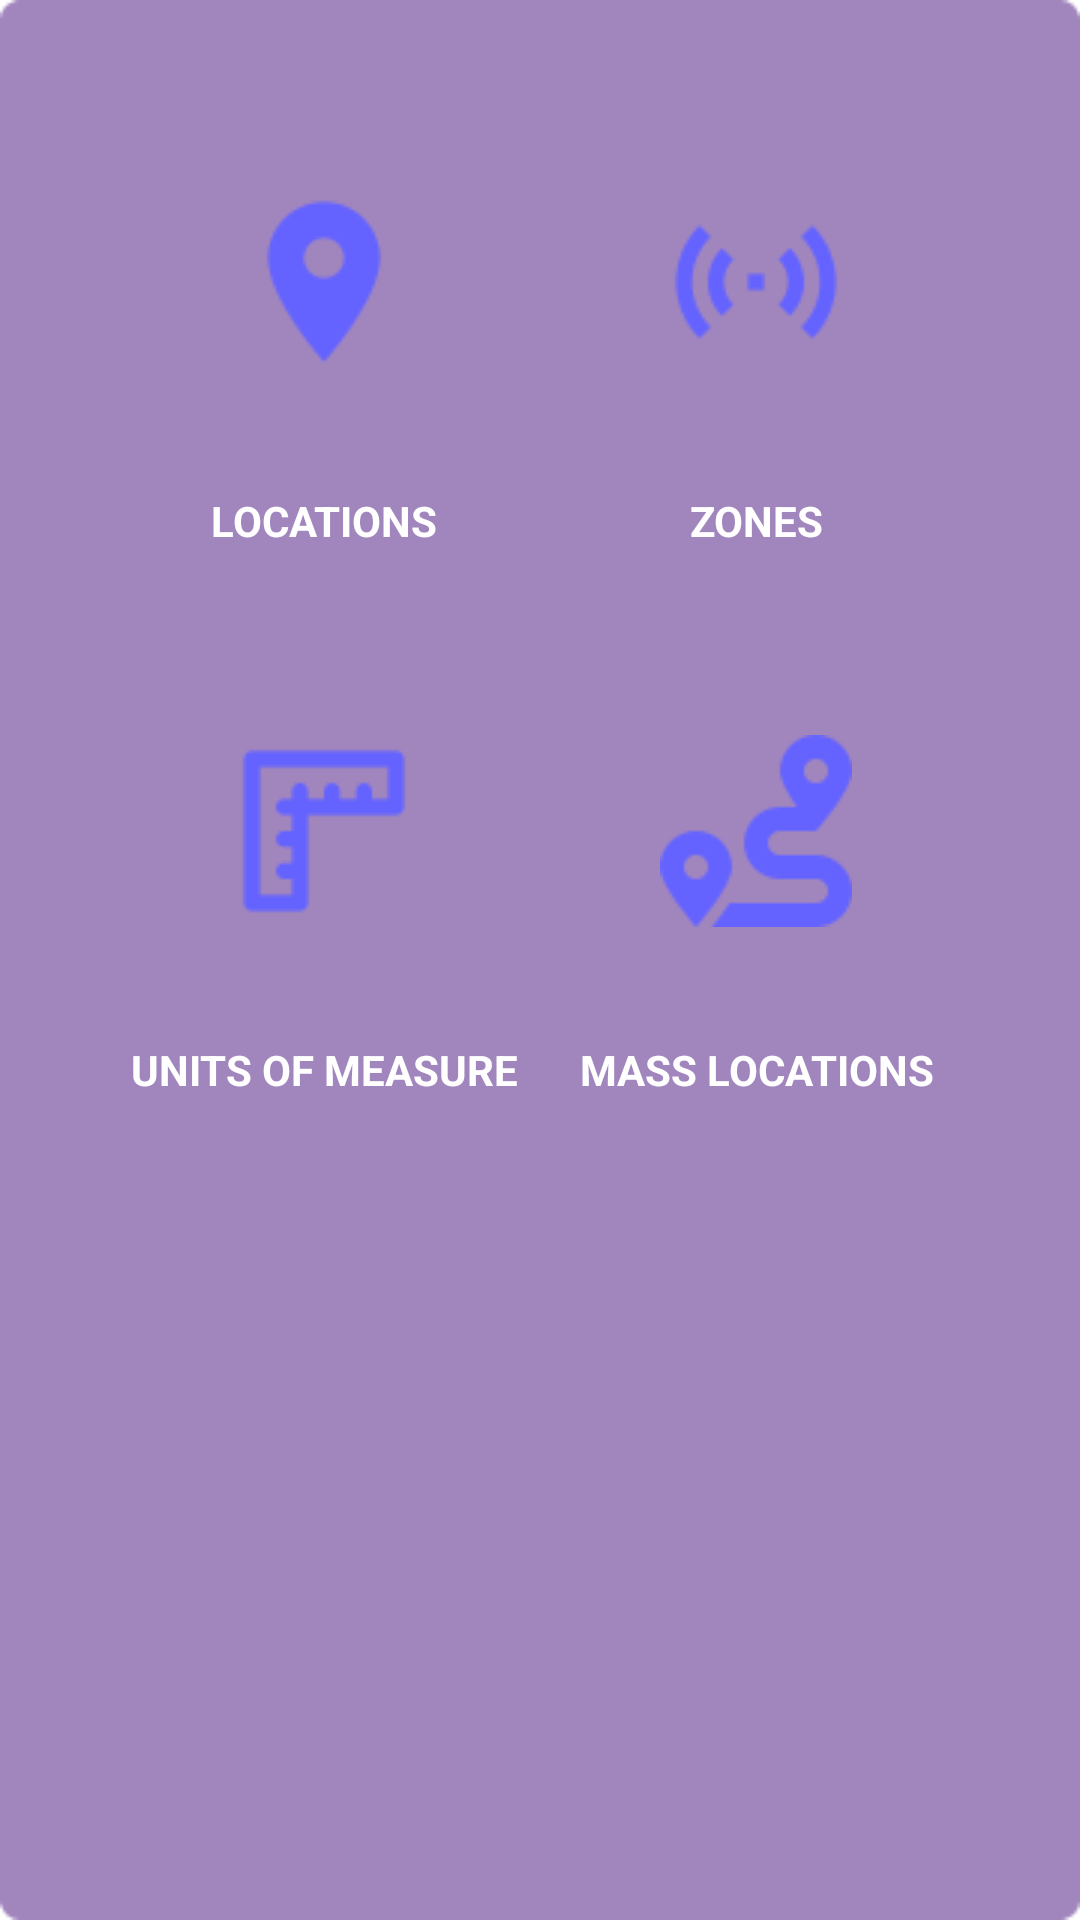

Screen size 1080px x 1920px. Icon name, then its center in pixels as [x,y]:
unitofmeasure: [324,831]
